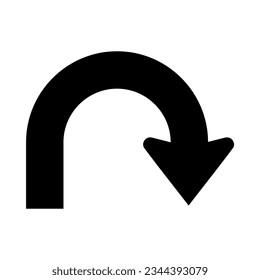Right Hair Pin Bend: (7, 23, 245, 232)
